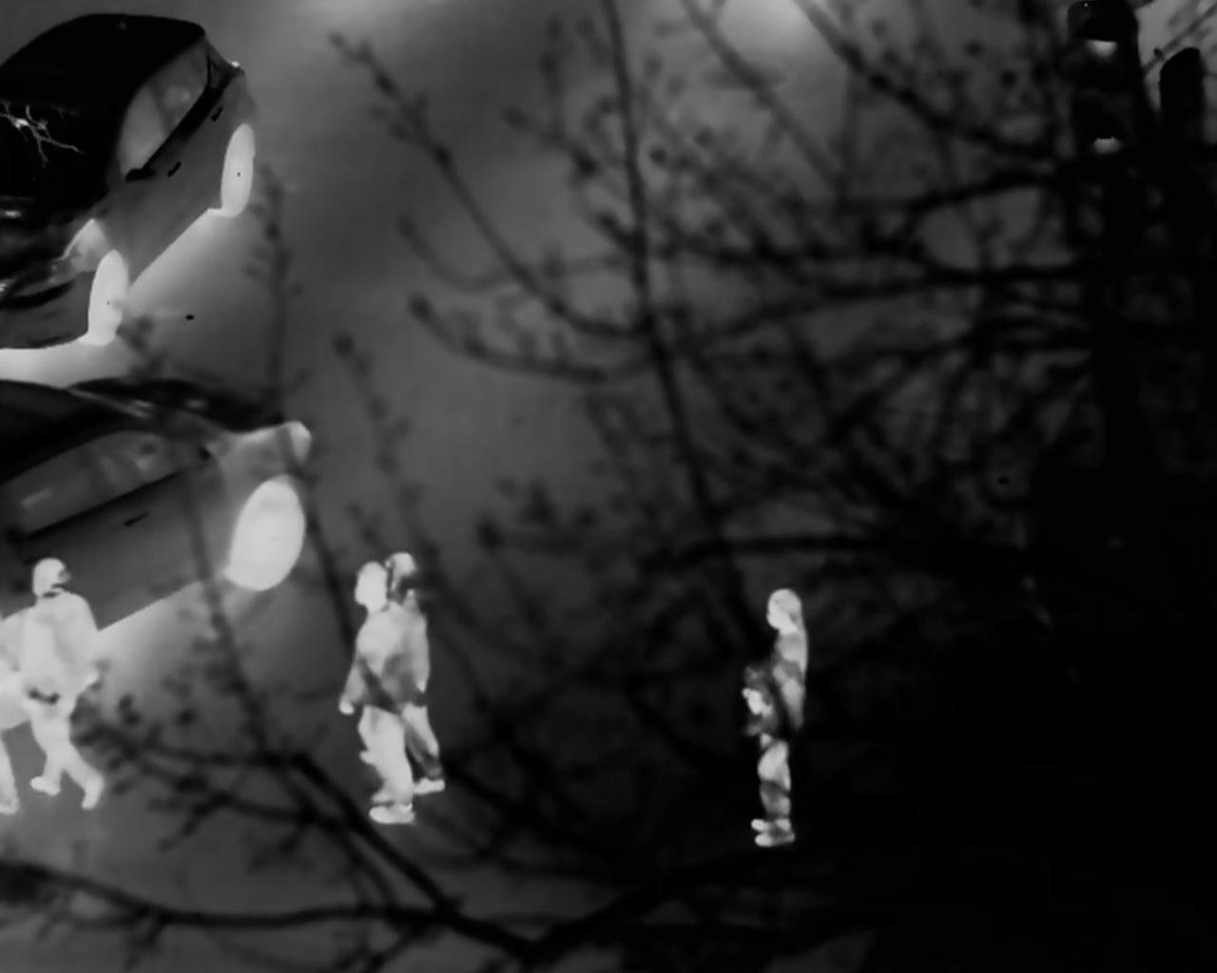person: (21, 557, 104, 811), (346, 569, 415, 822), (745, 585, 810, 850), (379, 555, 450, 797)
